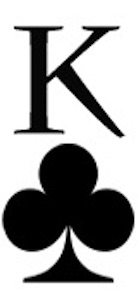KingOfClubs: (1, 1, 137, 290)
